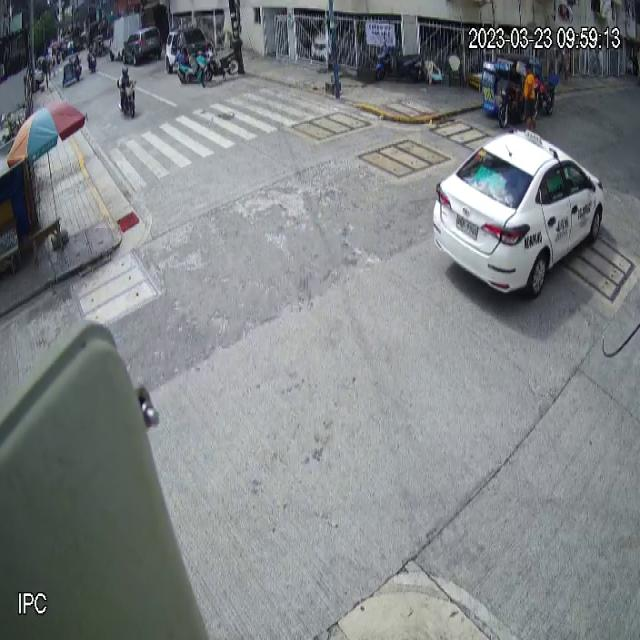Car: (432, 127, 604, 298)
Tricycle: (481, 53, 528, 128)
